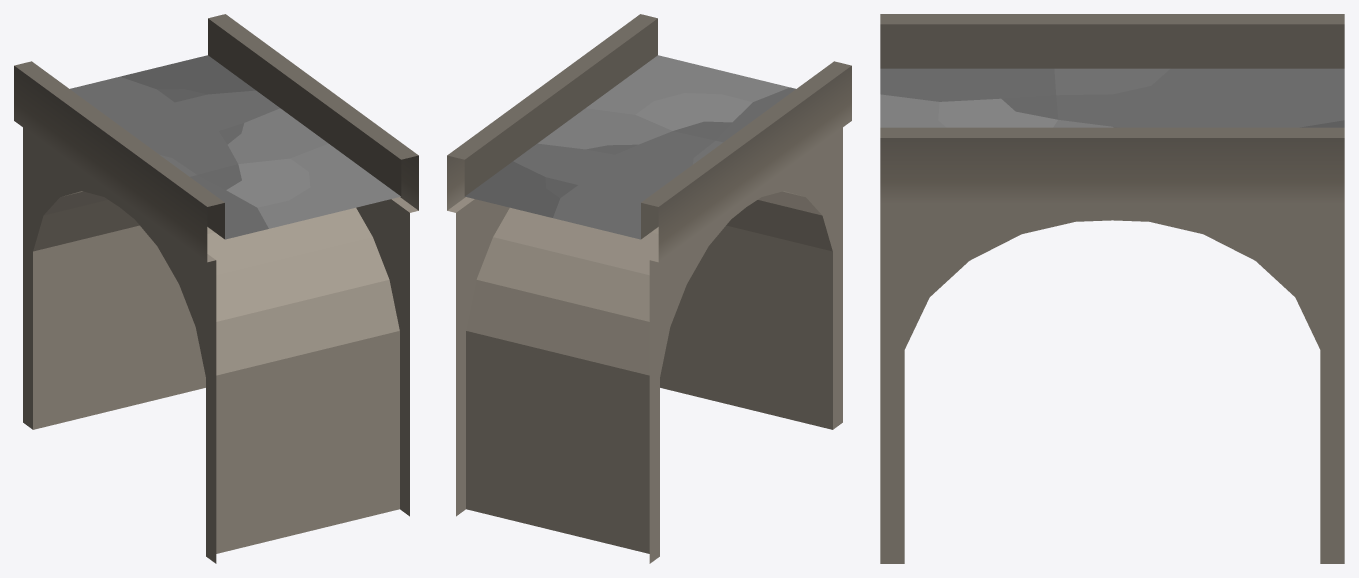
File: Walkway-Bridge_C-Basic.fbx
3 renders of one model, left to right at view 1: azimuth 30°, elevation 25°; view 2: azimuth 150°, elevation 25°; view 3: azimuth 270°, elevation 25°, orthographic. The views are drawn at different scales.
Visible parts, largest first — view 1: Walkway-Bridge_C-Basic; view 2: Walkway-Bridge_C-Basic; view 3: Walkway-Bridge_C-Basic.
Part boxes in pixels (x1,y1,x2,y2): Walkway-Bridge_C-Basic: (14, 14, 418, 563); Walkway-Bridge_C-Basic: (447, 14, 851, 563); Walkway-Bridge_C-Basic: (880, 14, 1344, 563).
Size of the model in its own units: 600 by 974 by 950.
